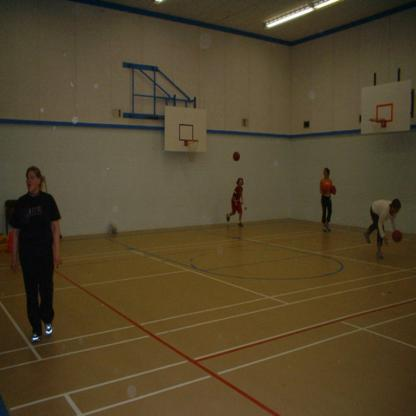Ball: (391, 230, 403, 242), (233, 153, 240, 161)
